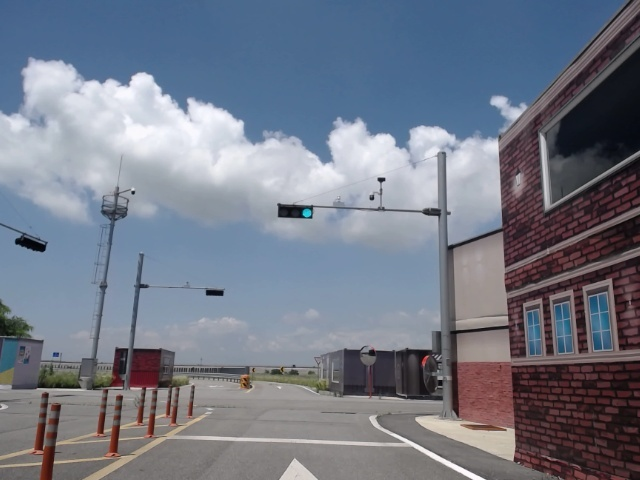green_3: (277, 205, 313, 219)
